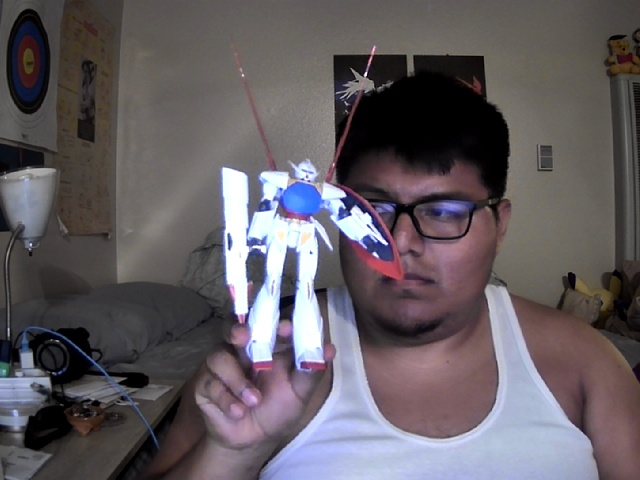Mk-11-Titans: (220, 156, 402, 374)
